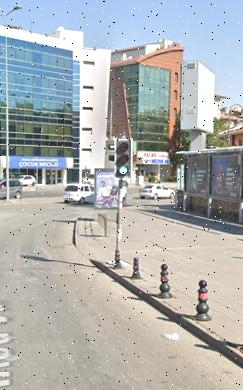greenlight: (116, 139, 132, 177)
